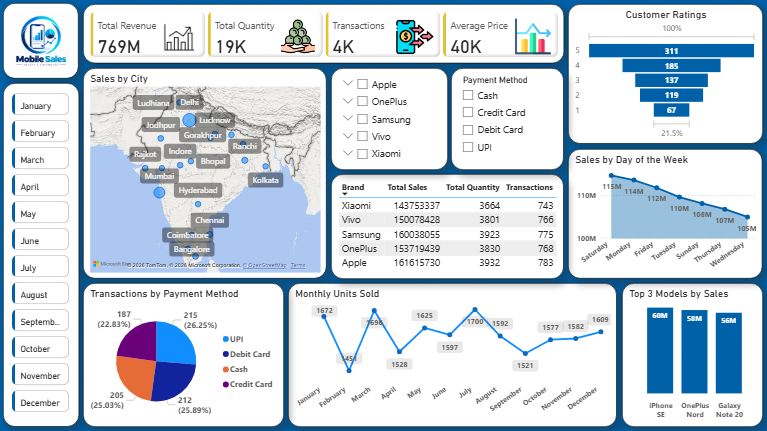

This screenshot's page, from the dashboard's own definition file:
{"tool":"powerbi","page":{"name":"Mobile Sales Analysis","canvas":[1280,720],"ordinal":0},"visuals":[{"type":"shape","box":[7,7,125.6,125.6],"z":0},{"type":"image","box":[258.3,20,100,100],"z":1000},{"type":"shape","box":[6.7,140,126.7,573.3],"z":2000},{"type":"advancedSlicerVisual","fields":{"Values":["Sales_Data.Date.Variation.Date Hierarchy.Month"]},"box":[16.2,151.5,105.9,545.6],"z":3000},{"type":"cardVisual","fields":{"Data":["Sales_Data.Total Sales","Sales_Data.Total Quantity","Sales_Data.Transactions","Sales_Data.Average Price"]},"box":[139.5,8.7,802.2,99.4],"z":4000},{"type":"map","title":"Sales by City","fields":{"Category":["Sales_Data.City"],"Size":["Sales_Data.Total Sales"]},"box":[139.5,115.1,406,350.5],"z":5000},{"type":"lineChart","title":"Monthly Units Sold","fields":{"Category":["Sales_Data.Date.Variation.Date Hierarchy.Month","Sales_Data.Date.Variation.Date Hierarchy.Day"],"Y":["Sales_Data.Total Quantity"]},"box":[481.7,473.3,548.3,240],"z":6000},{"type":"columnChart","title":"Top 3 Models by Sales","fields":{"Category":["Sales_Data.Mobile Model"],"Y":["Sales_Data.Total Sales"]},"box":[1038.3,473.3,235,240],"z":7000},{"type":"pieChart","fields":{"Category":["Sales_Data.Payment Method"],"Y":["Sales_Data.Transactions"]},"box":[140,473.3,335,240],"z":8000},{"type":"funnel","title":"Customer Ratings","fields":{"Category":["Sales_Data.Customer Ratings"],"Y":["CountNonNull(Sales_Data.Customer Ratings)"]},"box":[948.3,8.3,325,233.3],"z":9000},{"type":"areaChart","title":"Sales by Day of the Week","fields":{"Category":["Sales_Data.Day Name"],"Y":["Sales_Data.Total Sales"]},"box":[948.7,249.4,324.4,216.2],"z":10000},{"type":"tableEx","fields":{"Values":["Sales_Data.Brand","Sales_Data.Total Sales","Sales_Data.Total Quantity","Sales_Data.Transactions"]},"box":[552.7,290.9,388.4,174.5],"z":11000},{"type":"slicer","fields":{"Values":["Sales_Data.Brand","Sales_Data.Mobile Model"]},"box":[552.7,114.9,194.9,170.2],"z":12000},{"type":"slicer","fields":{"Values":["Sales_Data.Payment Method"]},"box":[753.5,114.9,187.6,170.2],"z":13000},{"type":"image","box":[15,15,110,110],"z":14000}]}

Visuals, with their boxes in screenshot pixels (x1, y1, x2, y2), scaled from the page's 1280x720 canvas onto the 767x431 screenshot:
shape: BBox(4, 4, 79, 79)
image: BBox(155, 12, 215, 72)
shape: BBox(4, 84, 80, 427)
advancedSlicerVisual - Sales_Data.Date.Variation.Date Hierarchy.Month: BBox(10, 91, 73, 417)
cardVisual - Sales_Data.Total Sales x Sales_Data.Total Quantity: BBox(84, 5, 564, 65)
"Sales by City" map: BBox(84, 69, 327, 279)
"Monthly Units Sold" lineChart: BBox(289, 283, 617, 427)
"Top 3 Models by Sales" columnChart: BBox(622, 283, 763, 427)
pieChart - Sales_Data.Payment Method x Sales_Data.Transactions: BBox(84, 283, 285, 427)
"Customer Ratings" funnel: BBox(568, 5, 763, 145)
"Sales by Day of the Week" areaChart: BBox(568, 149, 763, 279)
tableEx - Sales_Data.Brand x Sales_Data.Total Sales: BBox(331, 174, 564, 279)
slicer - Sales_Data.Brand x Sales_Data.Mobile Model: BBox(331, 69, 448, 171)
slicer - Sales_Data.Payment Method: BBox(452, 69, 564, 171)
image: BBox(9, 9, 75, 75)
